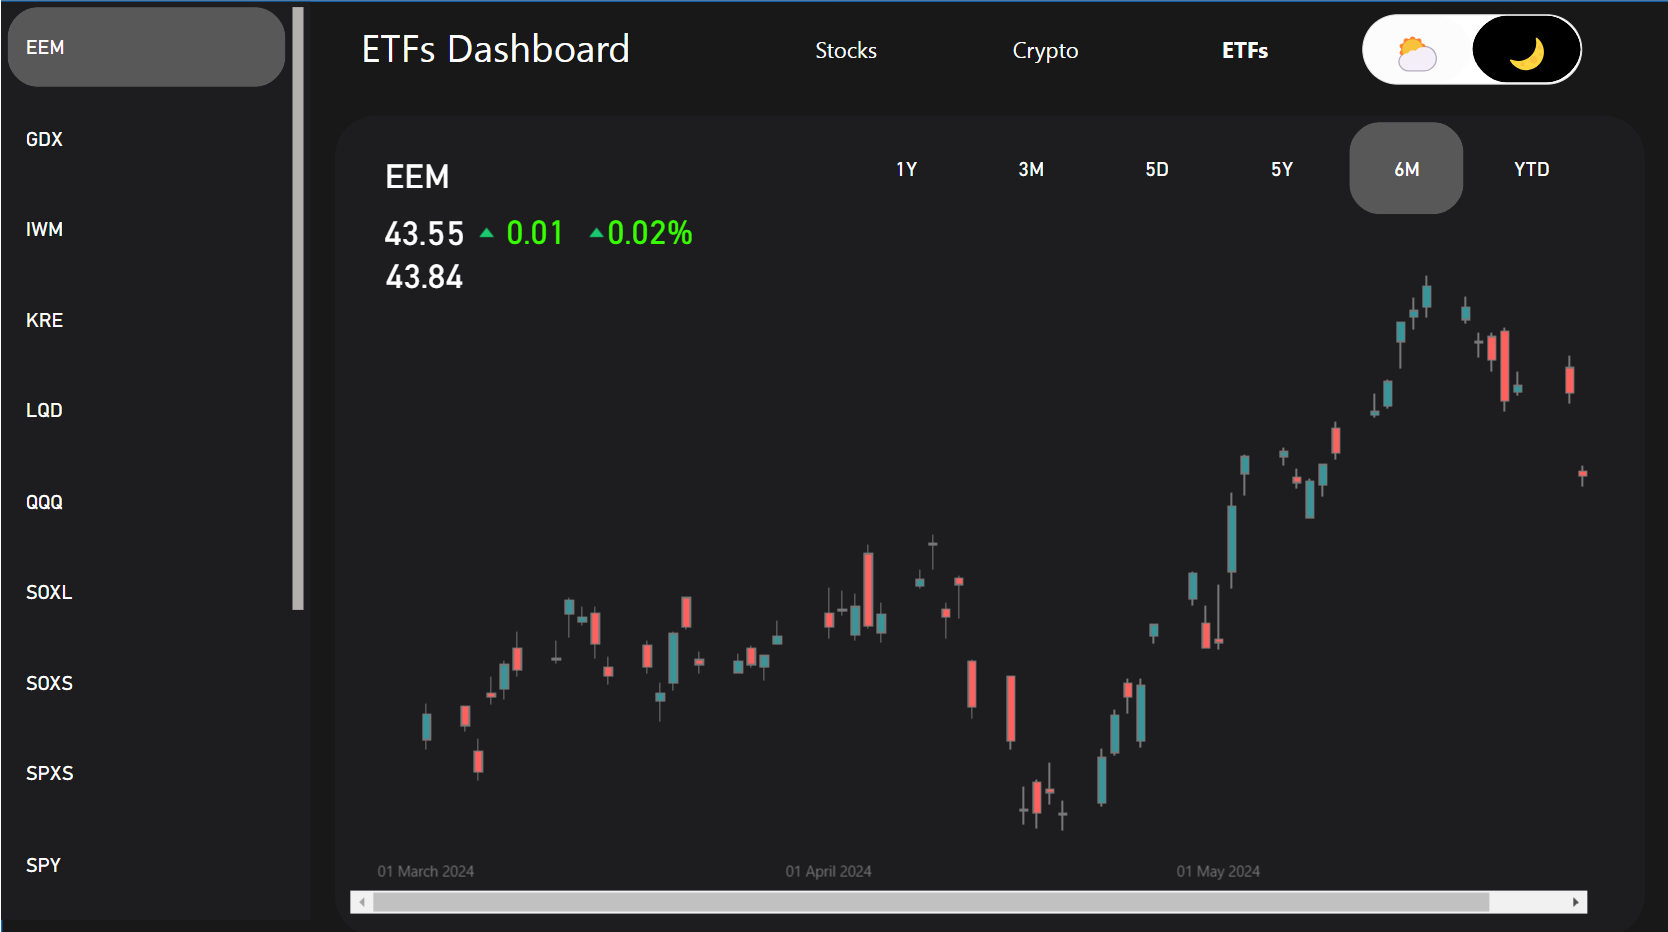

This screenshot's page, from the dashboard's own definition file:
{"tool":"powerbi","page":{"name":"ETFs","canvas":[1280,720],"ordinal":2},"visuals":[{"type":"shape","box":[40,38.2,1215.5,680],"z":0,"group":"g1"},{"type":"group","id":"g1","title":"Market Dashboard","box":[40,37.9,1215.5,680.7],"z":0},{"type":"shape","box":[282.9,121.4,952.9,597.1],"z":1000,"group":"g1"},{"type":"PBI_CV_886A053E_9DFD_4EA0_A47D_CCAEB89AF969","fields":{"Category":["Stocks Data.Date.Variation.Date Hierarchy.Day"],"open":["Min(Stocks Data.Open)"],"close":["Min(Stocks Data.Close)"],"high":["Min(Stocks Data.High)"],"low":["Min(Stocks Data.Low)"]},"box":[282.5,199.3,922,507.5],"z":2000,"group":"g1"},{"type":"shape","box":[40.4,39.1,225,667.7],"z":3000,"group":"g1"},{"type":"advancedSlicerVisual","fields":{"Values":["Stocks Data.Symbol"]},"box":[40.4,37.9,225,668.9],"z":4000,"group":"g1"},{"type":"advancedSlicerVisual","fields":{"Values":["Stocks Data.Date Category"]},"box":[651.4,121.4,552.9,77.1],"z":5000,"group":"g1"},{"type":"advancedSlicerVisual","fields":{"Values":["Color Codes.Icon"]},"box":[1029.6,47.7,160.2,51.4],"z":6000,"group":"g1"},{"type":"cardVisual","fields":{"Data":["Min(Stocks Data.Logo)"]},"box":[282.7,122.1,98.8,91.9],"z":7000,"group":"g1"},{"type":"card","fields":{"Values":["Min(Stocks Data.Symbol)"]},"box":[283.3,139.5,118.6,50.1],"z":8000,"group":"g1"},{"type":"card","fields":{"Values":["Stocks Data.Open_Value"]},"box":[302.6,189.5,90.9,33],"z":10000,"group":"g1"},{"type":"card","fields":{"Values":["Stocks Data.Close_Value"]},"box":[300.5,222.3,94.3,31.4],"z":11000,"group":"g1"},{"type":"card","fields":{"Values":["Stocks Data.Open_Close_Diff"]},"box":[393.5,190,71,32.5],"z":12000,"group":"g1"},{"type":"card","fields":{"Values":["Stocks Data.Diff_%"]},"box":[473.4,190.1,77.1,32.9],"z":13000,"group":"g1"},{"type":"cardVisual","fields":{"Data":["Min(Stocks Data.Logo)"]},"box":[376.6,183.6,33.9,36.7],"z":14000,"group":"g1"},{"type":"cardVisual","fields":{"Data":["Min(Stocks Data.Logo)"]},"box":[456.4,183.5,33.8,36.9],"z":15000,"group":"g1"},{"type":"shape","box":[302,37.9,247,66],"z":16000,"group":"g1"},{"type":"pageNavigator","box":[587,52.6,425.5,41.6],"z":17000,"group":"g1"}]}

Visuals, with their boxes in screenshot pixels (x1, y1, x2, y2), scaled from the page's 1280x720 canvas onto the 1668x932 screenshot:
shape: {"left": 52, "top": 49, "right": 1636, "bottom": 930}
"Market Dashboard" group: {"left": 52, "top": 49, "right": 1636, "bottom": 930}
shape: {"left": 369, "top": 157, "right": 1610, "bottom": 930}
PBI_CV_886A053E_9DFD_4EA0_A47D_CCAEB89AF969 - Stocks Data.Date.Variation.Date Hierarchy.Day x Min(Stocks Data.Open): {"left": 368, "top": 258, "right": 1570, "bottom": 915}
shape: {"left": 53, "top": 51, "right": 346, "bottom": 915}
advancedSlicerVisual - Stocks Data.Symbol: {"left": 53, "top": 49, "right": 346, "bottom": 915}
advancedSlicerVisual - Stocks Data.Date Category: {"left": 849, "top": 157, "right": 1569, "bottom": 257}
advancedSlicerVisual - Color Codes.Icon: {"left": 1342, "top": 62, "right": 1550, "bottom": 128}
cardVisual - Min(Stocks Data.Logo): {"left": 368, "top": 158, "right": 497, "bottom": 277}
card - Min(Stocks Data.Symbol): {"left": 369, "top": 181, "right": 524, "bottom": 245}
card - Stocks Data.Open_Value: {"left": 394, "top": 245, "right": 513, "bottom": 288}
card - Stocks Data.Close_Value: {"left": 392, "top": 288, "right": 514, "bottom": 328}
card - Stocks Data.Open_Close_Diff: {"left": 513, "top": 246, "right": 605, "bottom": 288}
card - Stocks Data.Diff_%: {"left": 617, "top": 246, "right": 717, "bottom": 289}
cardVisual - Min(Stocks Data.Logo): {"left": 491, "top": 238, "right": 535, "bottom": 285}
cardVisual - Min(Stocks Data.Logo): {"left": 595, "top": 238, "right": 639, "bottom": 285}
shape: {"left": 394, "top": 49, "right": 715, "bottom": 134}
pageNavigator: {"left": 765, "top": 68, "right": 1319, "bottom": 122}
